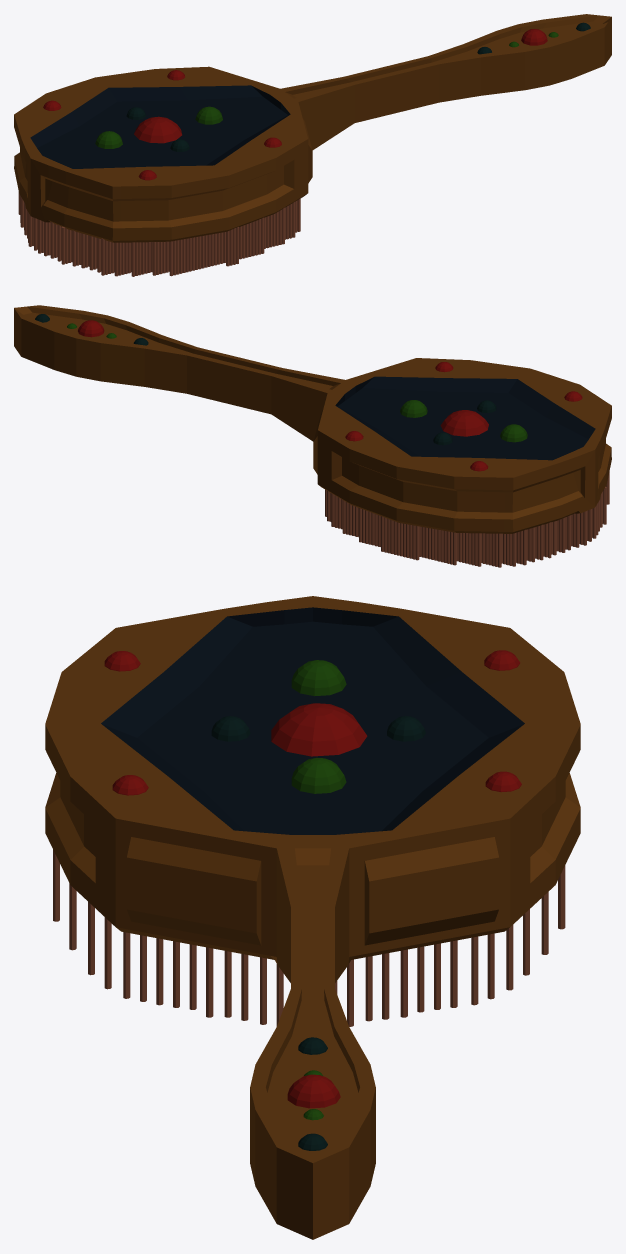
File: hairbrush.obj
The picture shows the model from 3 angles, top to bottom: view 1: azimuth 30°, elevation 25°; view 2: azimuth 150°, elevation 25°; view 3: azimuth 270°, elevation 25°; orthographic projection. The views are drawn at different scales.
Visible parts, largest first — view 1: Cube_Cube.001, Cylinder.030, Cylinder.029, Cylinder.028, Sphere.005, Cylinder.027, Cylinder.026, Cylinder.031, Cylinder.005, Sphere.006, Sphere.007; view 2: Cube_Cube.001, Cylinder.019, Cylinder.020, Cylinder.018, Cylinder.021, Sphere.005, Cylinder.022, Cylinder.023, Sphere.007, Sphere.006; view 3: Cube_Cube.001, Sphere.005, Sphere.007, Sphere.006, Sphere.
Part boxes in pixels (x1,y1,x2,y2): Cube_Cube.001: (14, 14, 611, 242); Cylinder.030: (169, 217, 264, 276); Cylinder.029: (152, 207, 284, 275); Cylinder.028: (131, 202, 295, 276); Sphere.005: (134, 116, 182, 143); Cylinder.027: (114, 198, 300, 276); Cylinder.026: (101, 238, 114, 275); Cylinder.031: (226, 227, 238, 266); Cylinder.005: (61, 226, 72, 264); Sphere.006: (195, 106, 222, 124); Sphere.007: (95, 131, 122, 148); Cube_Cube.001: (14, 305, 611, 533); Cylinder.019: (359, 508, 456, 565); Cylinder.020: (342, 500, 481, 566); Cylinder.018: (381, 516, 419, 560); Cylinder.021: (331, 493, 501, 567); Sphere.005: (440, 410, 488, 436); Cylinder.022: (327, 491, 515, 566); Cylinder.023: (325, 489, 526, 565); Sphere.007: (500, 424, 527, 442); Sphere.006: (400, 400, 427, 417); Cube_Cube.001: (45, 596, 580, 1239); Sphere.005: (271, 703, 367, 756); Sphere.007: (291, 660, 346, 696); Sphere.006: (291, 757, 346, 793); Sphere: (287, 1074, 340, 1108).
Bounding box in the file's own units: 0.6989 × 0.1146 × 0.2789.
